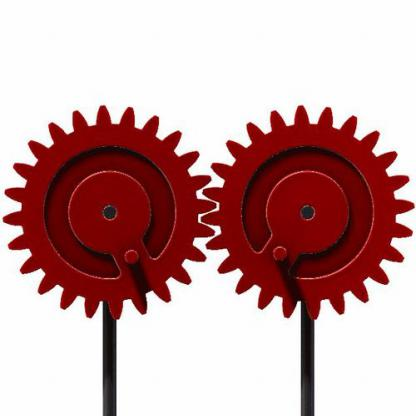FOD: (0, 99, 217, 325), (199, 103, 413, 324)
